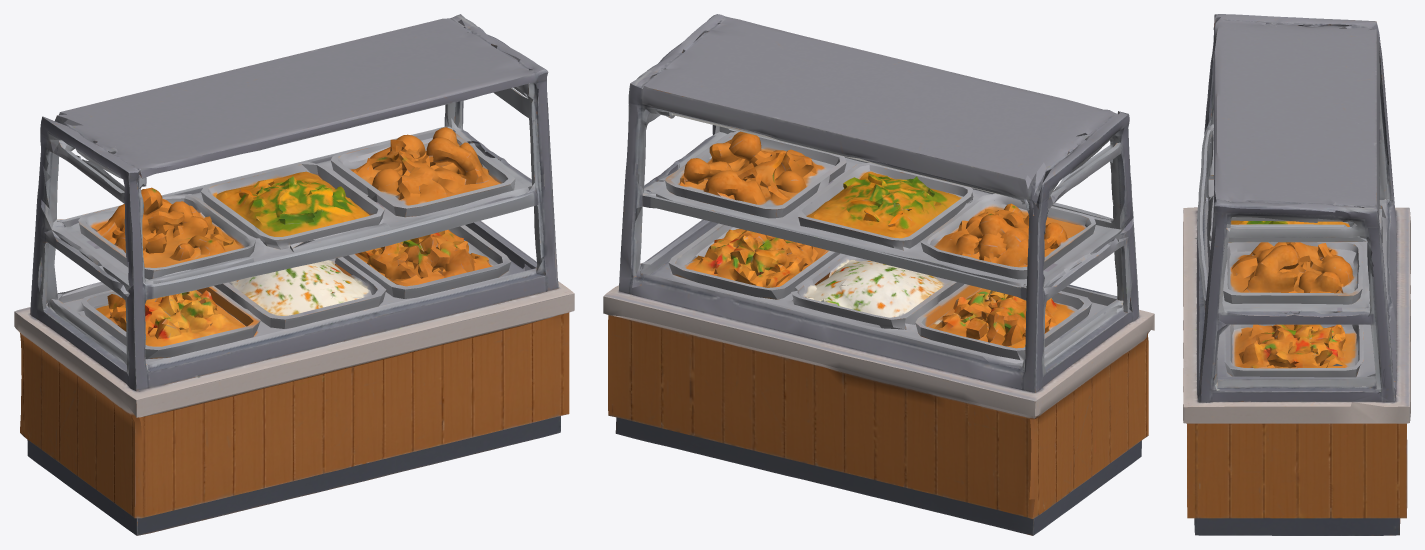
File: Meshy_AI_Hot_Food_Display_Case_1024123359_texture.fbx
3 renders of one model, left to right at view 1: azimuth 30°, elevation 25°; view 2: azimuth 150°, elevation 25°; view 3: azimuth 270°, elevation 25°, orthographic. The views are drawn at different scales.
Visible parts, largest first — view 1: Mesh0; view 2: Mesh0; view 3: Mesh0.
Boxes of the visible parts, box(x1,y1,x2,y2) form: Mesh0: box(14, 14, 574, 535); Mesh0: box(603, 14, 1154, 535); Mesh0: box(1183, 14, 1410, 535).
Bounding box in the file's own units: 190 × 147 × 91.73.
1 material, 1 textured.
